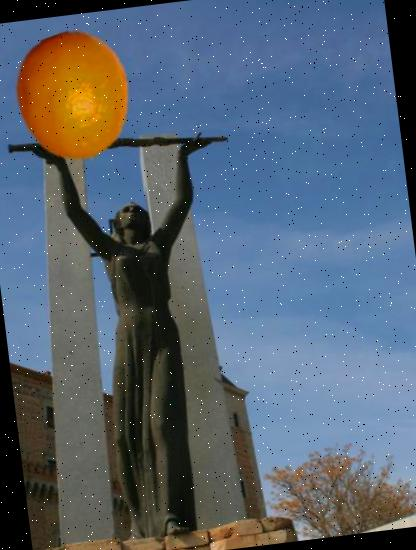Lemon: (1, 25, 147, 170)
